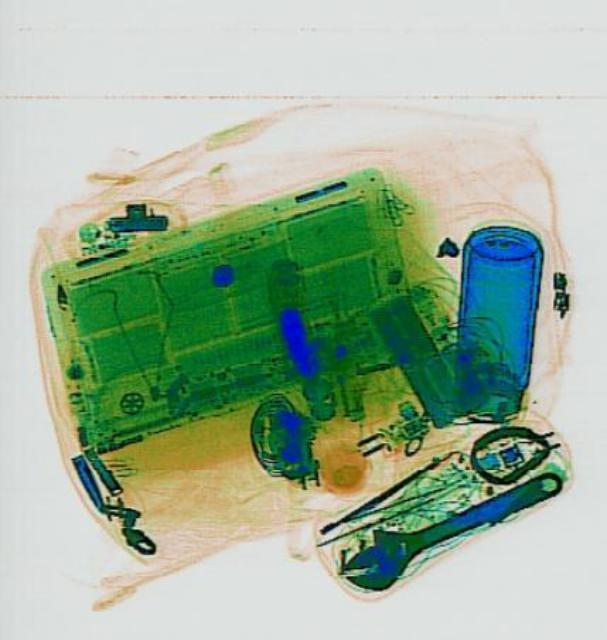Wrench: (326, 447, 569, 601)
